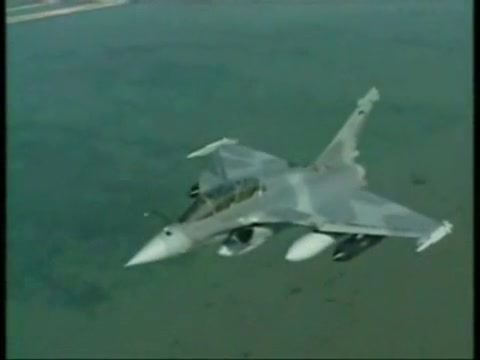aeroplane: (123, 87, 455, 273)
